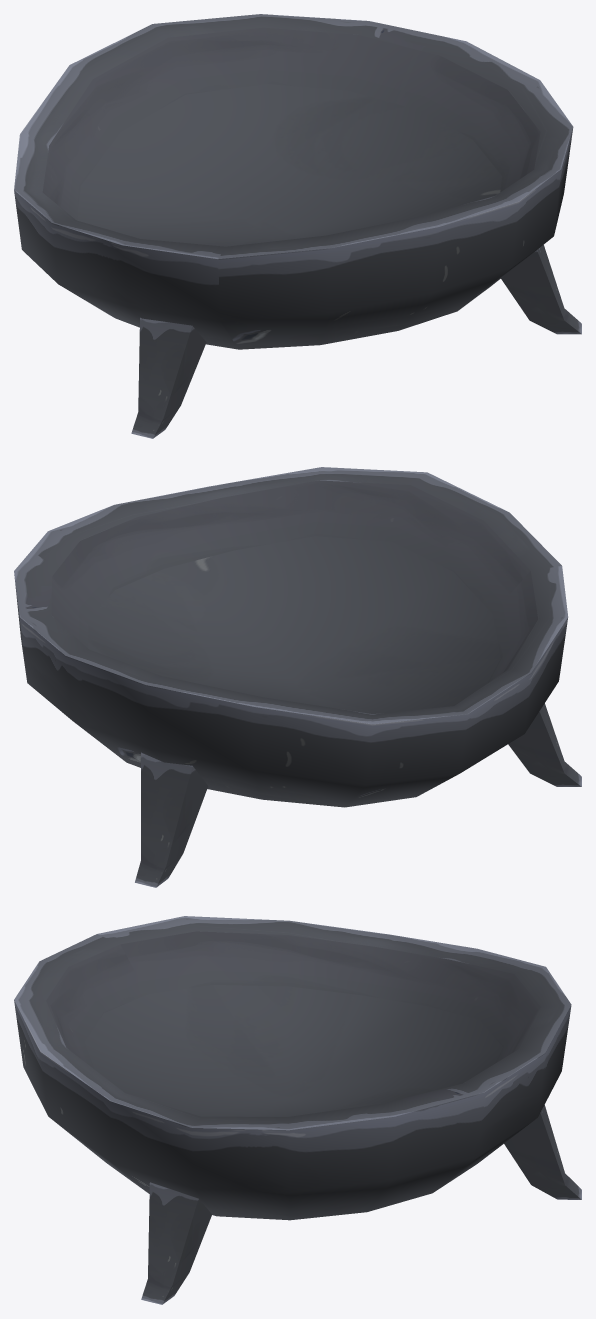
File: SM_PROP_brazier_02.fbx
3 renders of one model, top to bottom at view 1: azimuth 30°, elevation 25°; view 2: azimuth 150°, elevation 25°; view 3: azimuth 270°, elevation 25°, orthographic. The views are drawn at different scales.
Visible parts, largest first — view 1: SM_PROP_brazier_02; view 2: SM_PROP_brazier_02; view 3: SM_PROP_brazier_02.
Part boxes in pixels (x1,y1,x2,y2): SM_PROP_brazier_02: [14, 14, 581, 438]; SM_PROP_brazier_02: [14, 467, 581, 887]; SM_PROP_brazier_02: [14, 916, 581, 1304].
Size of the model in its own units: 119 by 47.87 by 123.
